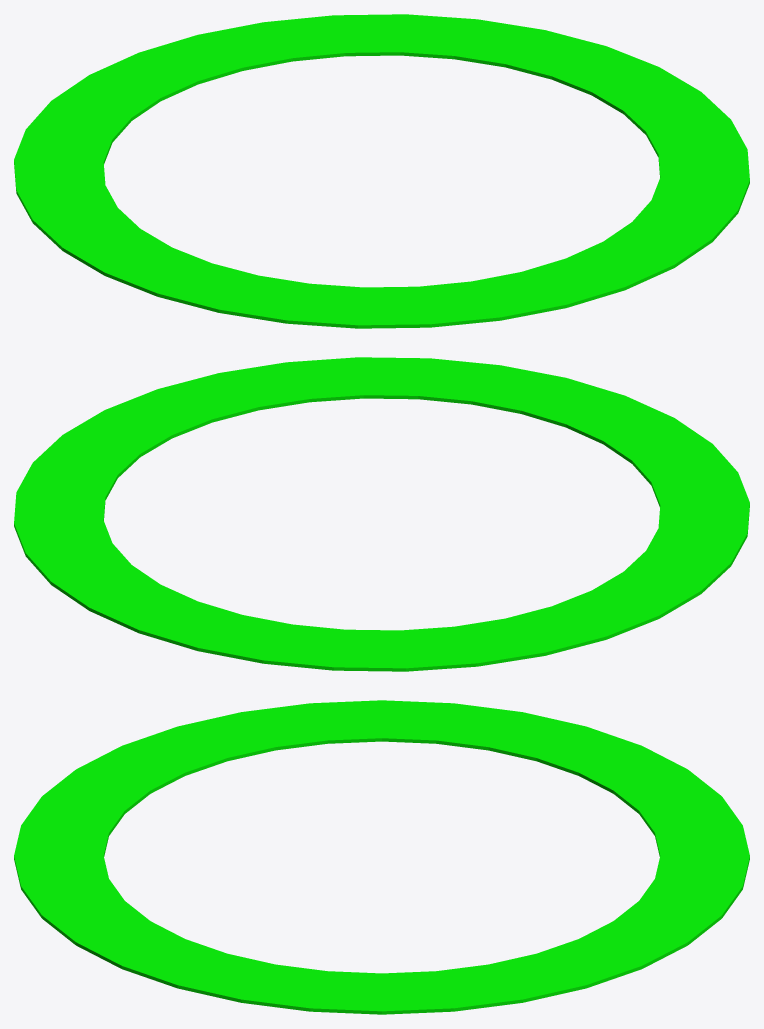
File: selection_circle.fbx
3 views of the same model, one above another, from view 1: azimuth 30°, elevation 25°; view 2: azimuth 150°, elevation 25°; view 3: azimuth 270°, elevation 25° (orthographic).
Visible parts, largest first — view 1: Circle; view 2: Circle; view 3: Circle.
Boxes of the visible parts, <box> form: Circle: <box>14,14,749,328</box>; Circle: <box>14,357,749,671</box>; Circle: <box>14,700,749,1014</box>.
Bounding box in the file's own units: 200 × 1 × 200.
